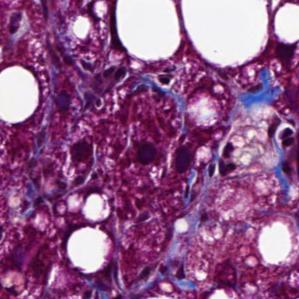inflammation: (171, 129, 210, 199), (65, 125, 104, 182), (125, 120, 164, 174)
